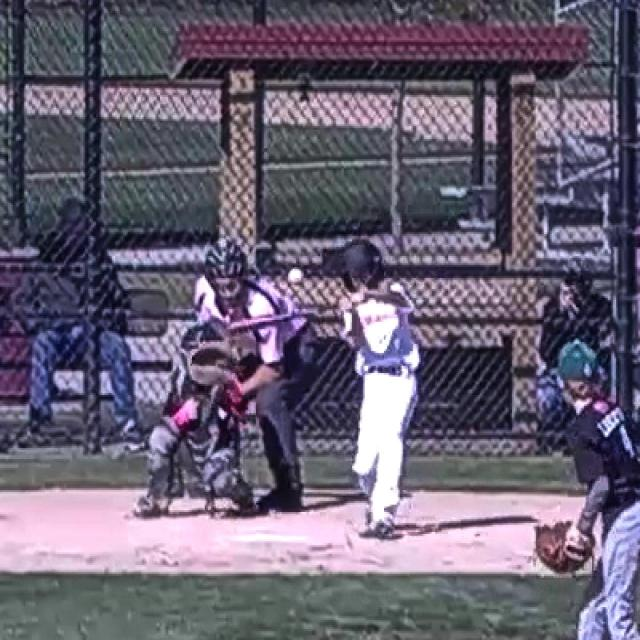baseball: (289, 269, 303, 282)
